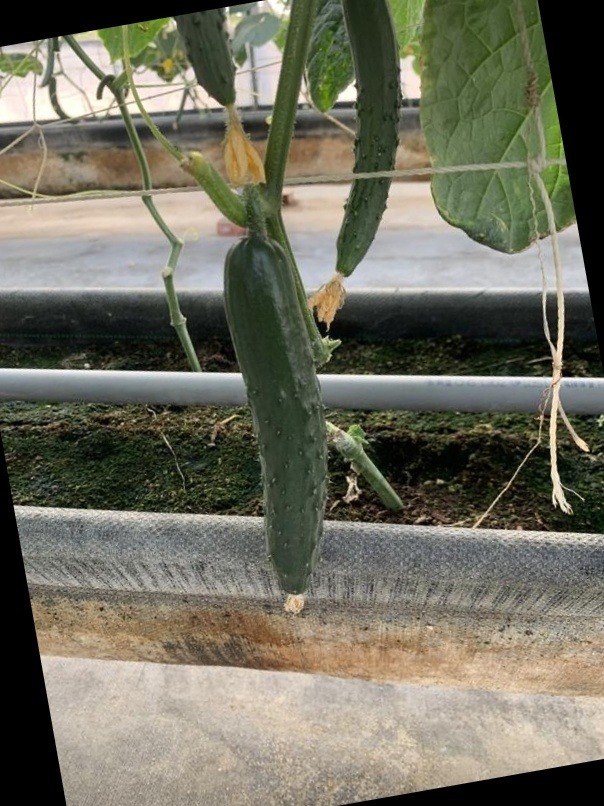mature: (218, 224, 325, 606), (315, 0, 403, 279)
